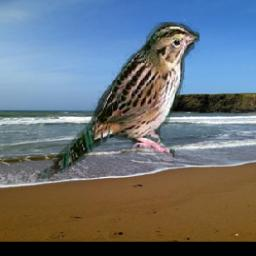Sparrow: (37, 23, 198, 180)
